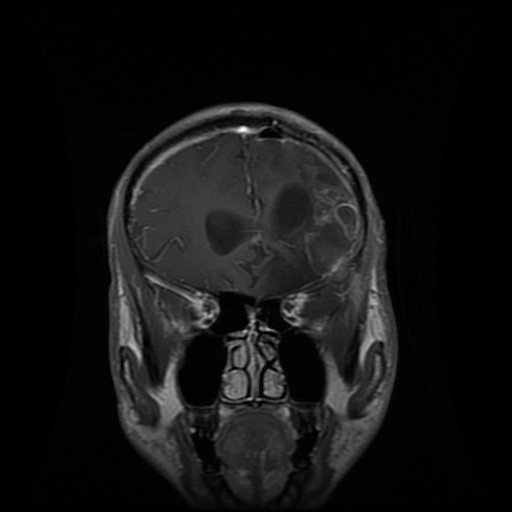glioma: (264, 172, 359, 293)
